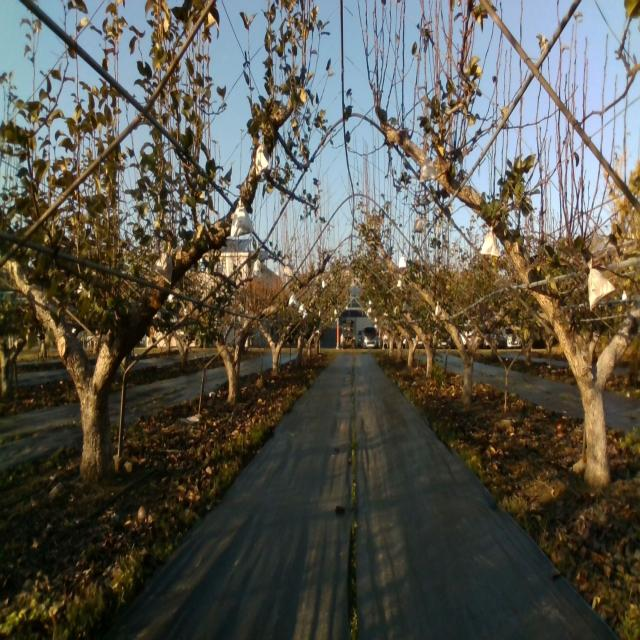pearbags: (587, 258, 616, 310), (230, 200, 254, 238), (152, 248, 172, 284), (481, 225, 499, 256), (419, 156, 438, 184), (255, 139, 269, 176)
